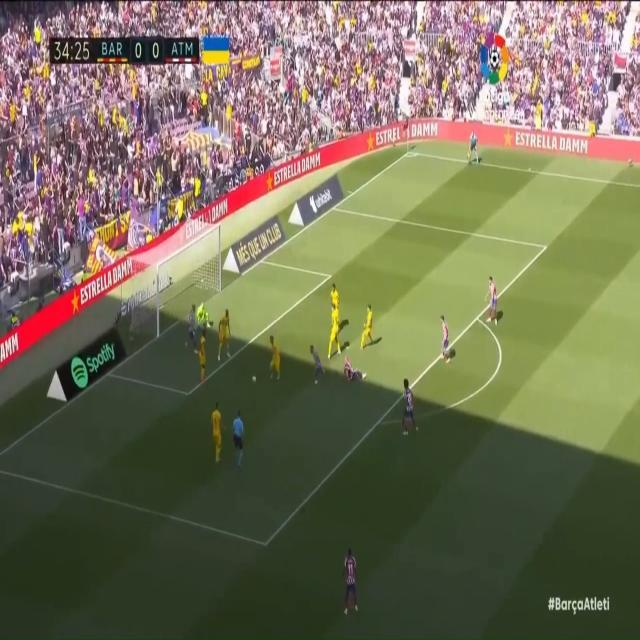ball: (251, 373, 259, 387)
goalkeeper: (194, 290, 213, 343)
player: (334, 530, 359, 619), (206, 390, 224, 465), (400, 368, 417, 446), (321, 269, 343, 327), (359, 300, 381, 355), (264, 328, 283, 388), (327, 301, 344, 361), (437, 304, 453, 366), (339, 354, 370, 386), (308, 337, 324, 397), (481, 265, 495, 330), (219, 302, 234, 361), (185, 302, 198, 362), (198, 329, 209, 387)
referee: (230, 409, 251, 467), (465, 126, 482, 170)
